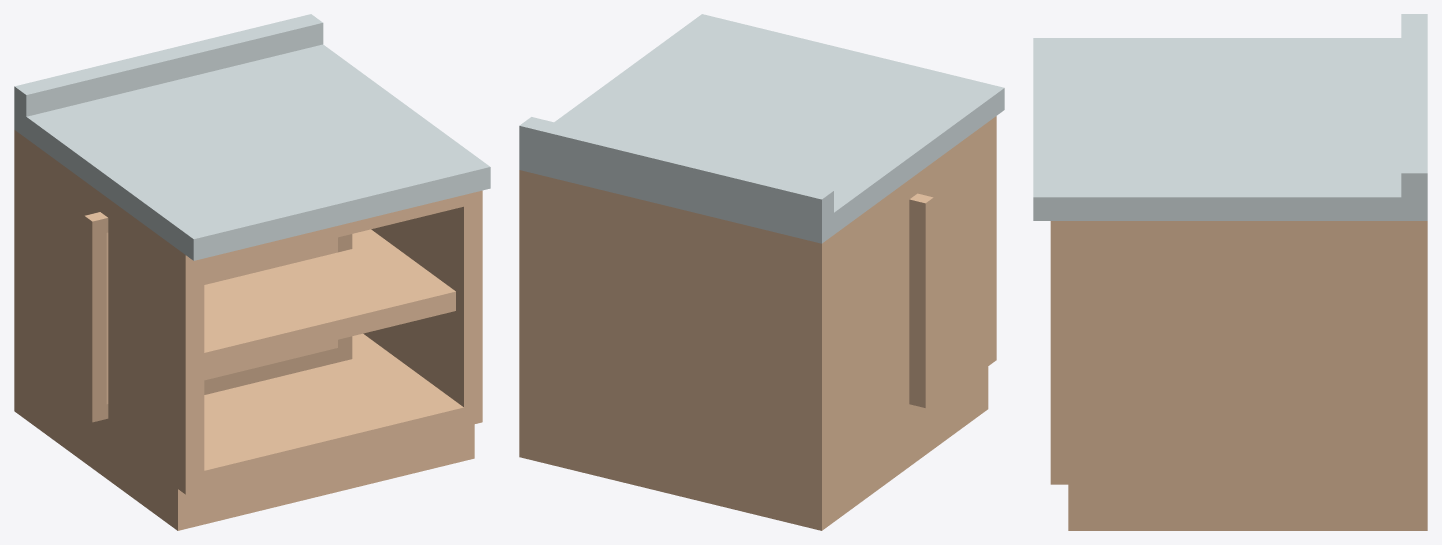
The model's file is kitchenCabinet.glb.
3 renders of one model, left to right at view 1: azimuth 30°, elevation 25°; view 2: azimuth 150°, elevation 25°; view 3: azimuth 270°, elevation 25°, orthographic. The views are drawn at different scales.
Visible parts, largest first — view 1: kitchenCabinet, kitchenCabinet.001; view 2: kitchenCabinet, kitchenCabinet.001; view 3: kitchenCabinet.
Boxes of the visible parts, bbox=[...] form: kitchenCabinet: bbox=[14, 14, 490, 530]; kitchenCabinet.001: bbox=[84, 212, 352, 422]; kitchenCabinet: bbox=[519, 14, 1004, 530]; kitchenCabinet.001: bbox=[909, 193, 933, 407]; kitchenCabinet: bbox=[1033, 14, 1427, 530].
Bounding box in the file's own units: 1.31 × 1.31 × 1.31.
